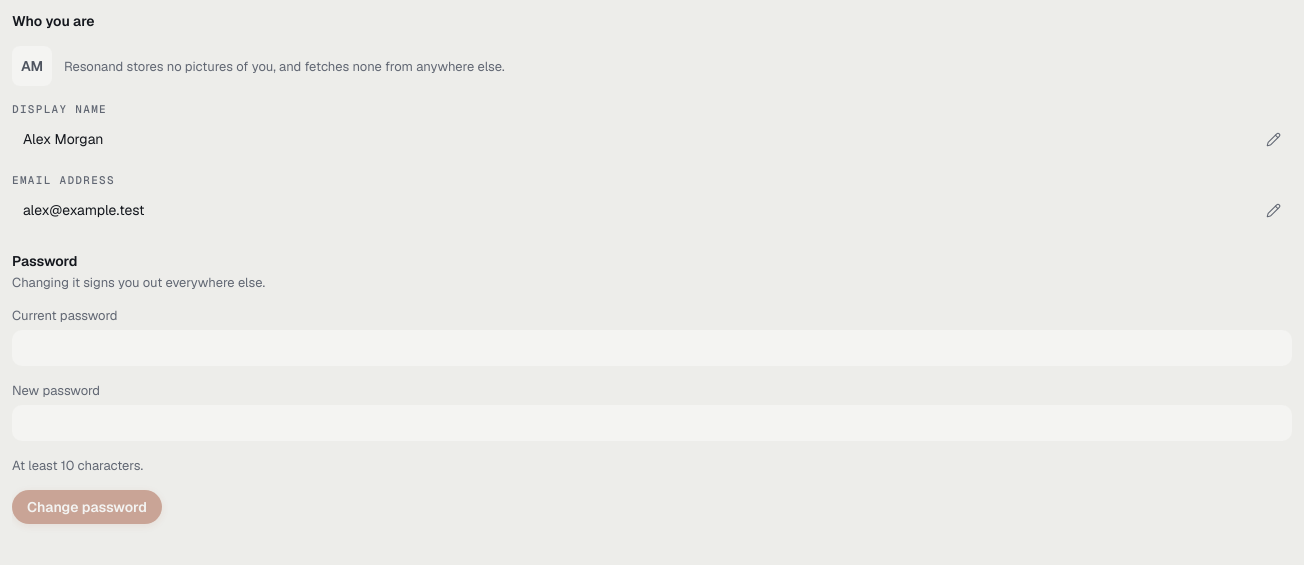
Test case: who you are › saves the display name on blur, with no Save button to forget
The width and height of the screenshot is (1304, 565).
Step 1. Click the button "Alex Morgan" → x=63, y=139, box [12, 121, 1292, 157]
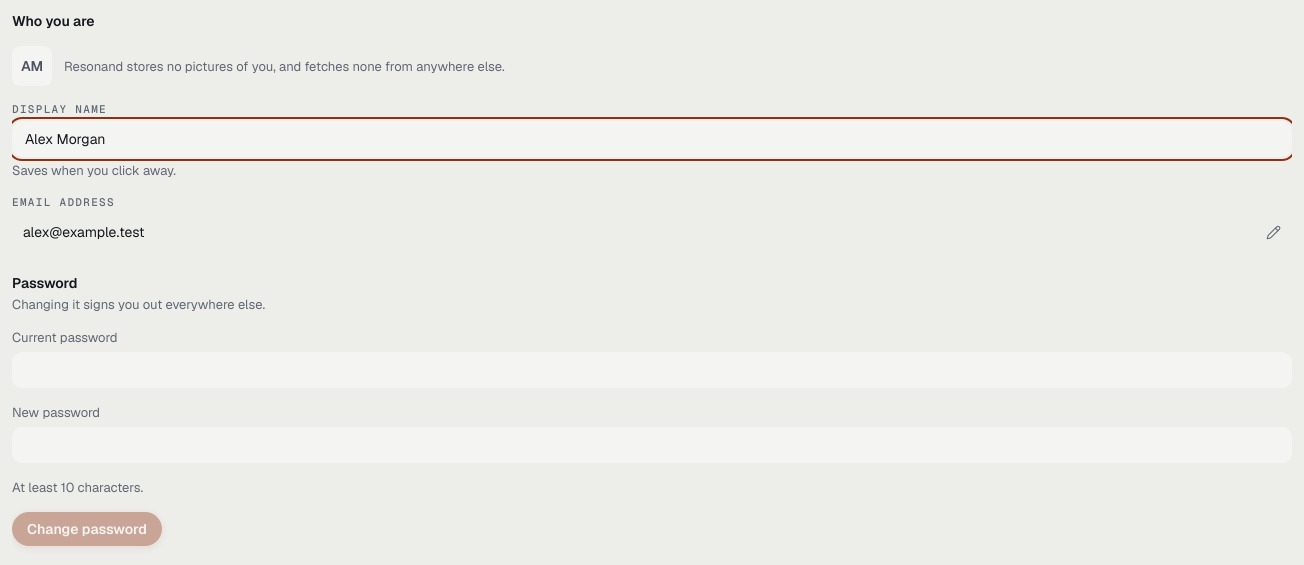
Step 2. Replace the text in the field named "Display name" with "Alex Morgan C." → x=652, y=139, box [23, 129, 1281, 149]
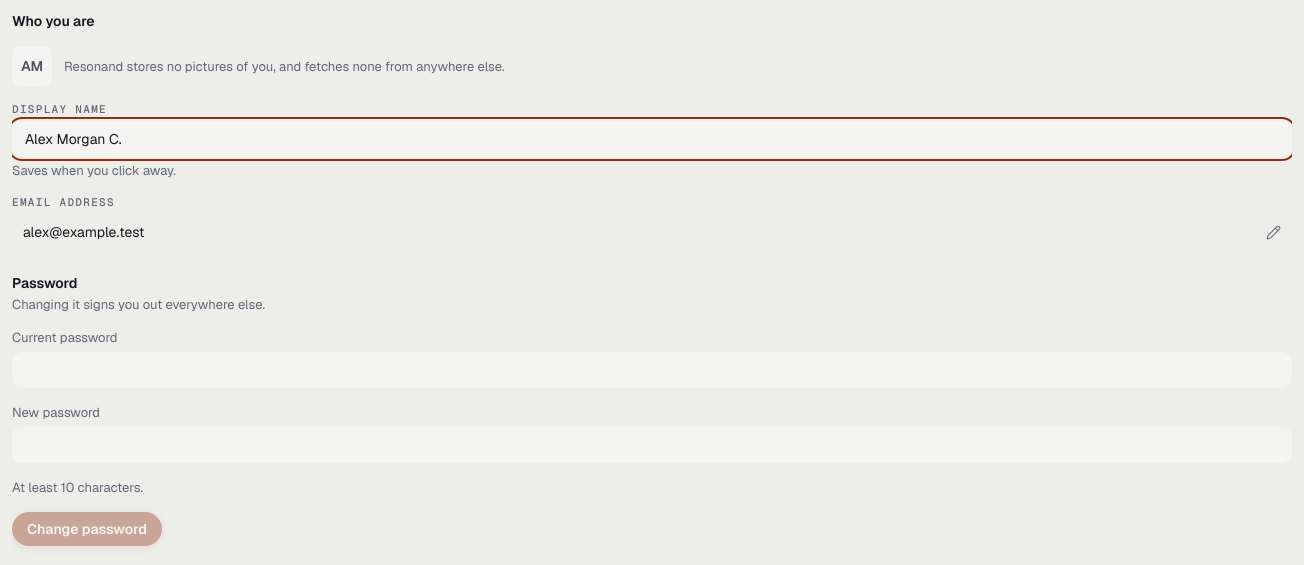
Step 3. Press Tab
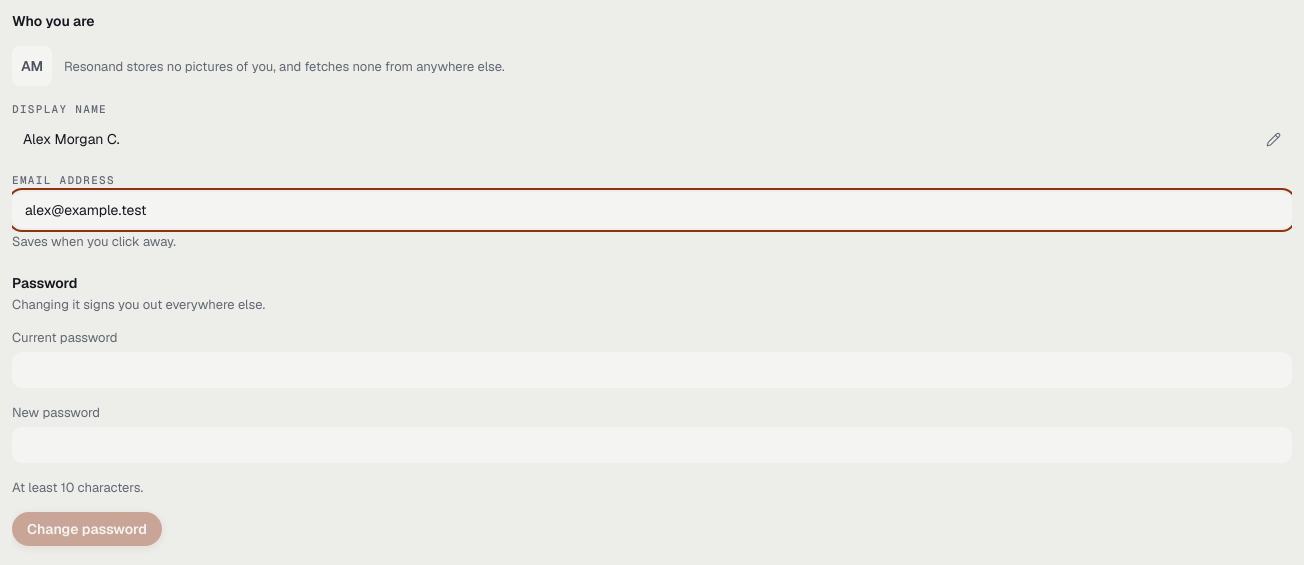
Now the text "Alex Morgan C." is shown, box [23, 130, 120, 148]
